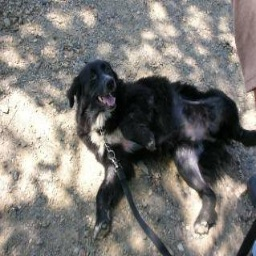dog: (55, 56, 255, 234)
